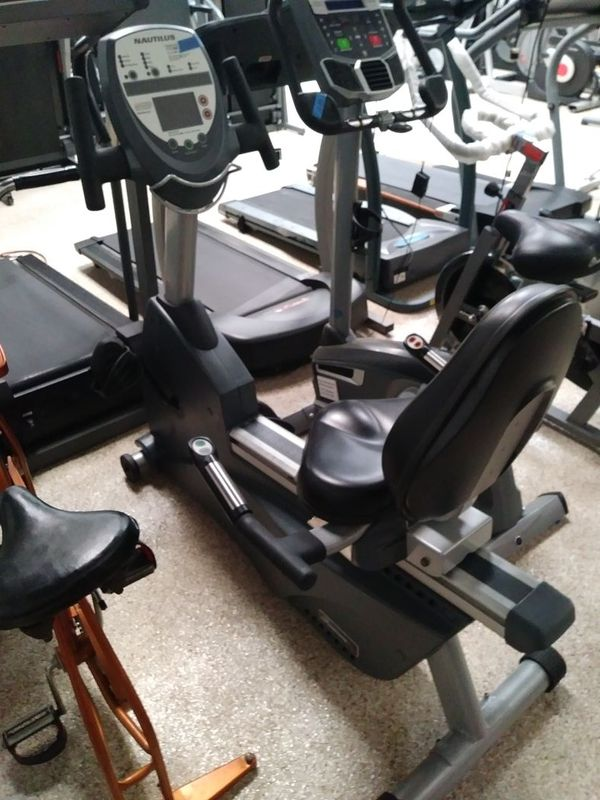gym_bike: (56, 16, 578, 793)
